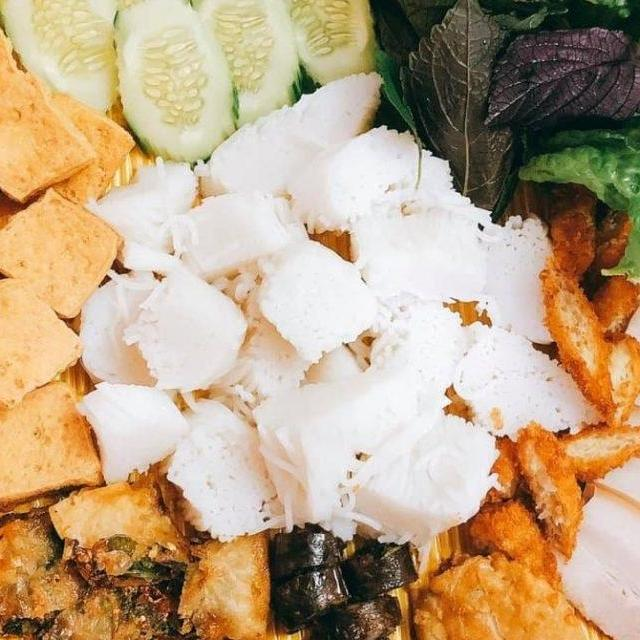bun: (48, 54, 620, 564)
bun dau: (0, 0, 640, 640)
cha com: (461, 413, 640, 593), (531, 180, 640, 434), (371, 539, 606, 640)
cha gio: (0, 507, 327, 640), (45, 472, 205, 599), (159, 512, 280, 640)
dau hu: (0, 80, 141, 295), (0, 179, 130, 325), (0, 372, 113, 504), (0, 269, 94, 418), (0, 6, 41, 156)
doi sun: (268, 504, 429, 640)
thit heo: (543, 472, 640, 640), (586, 394, 640, 595)
